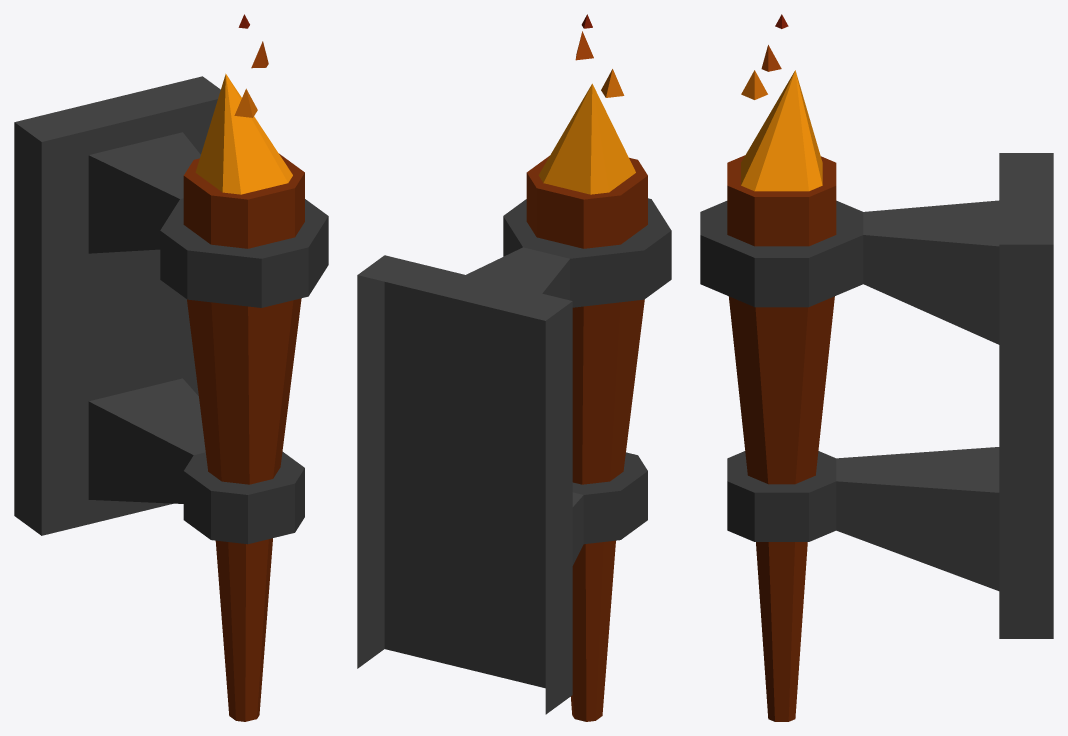
Rendered from torcha1.obj.
3 views of the same model, side by side, from view 1: azimuth 30°, elevation 25°; view 2: azimuth 150°, elevation 25°; view 3: azimuth 270°, elevation 25° (orthographic).
Visible parts, largest first — view 1: torcha1_back; view 2: torcha1_back; view 3: torcha1_back.
Boxes of the visible parts, x1,y1,x2,y2 form: torcha1_back: (14,14,328,721); torcha1_back: (357,14,671,721); torcha1_back: (700,14,1053,721).
Bounding box in the file's own units: 0.32 × 1.14 × 0.52.
